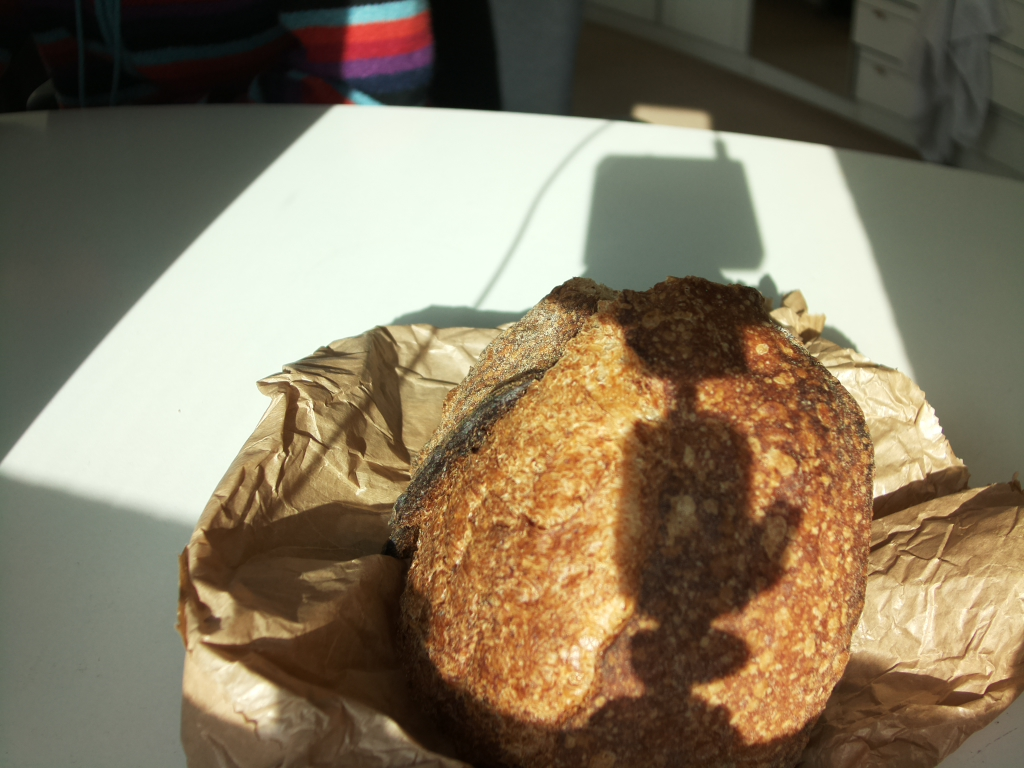bread: (391, 275, 875, 768)
